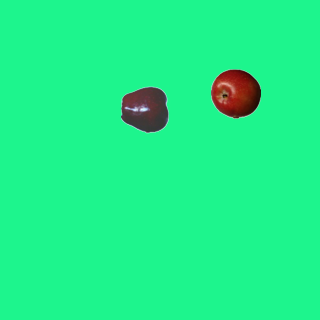Apple Braeburn: (210, 68, 260, 118)
Apple Red Delicious: (120, 84, 170, 134)
